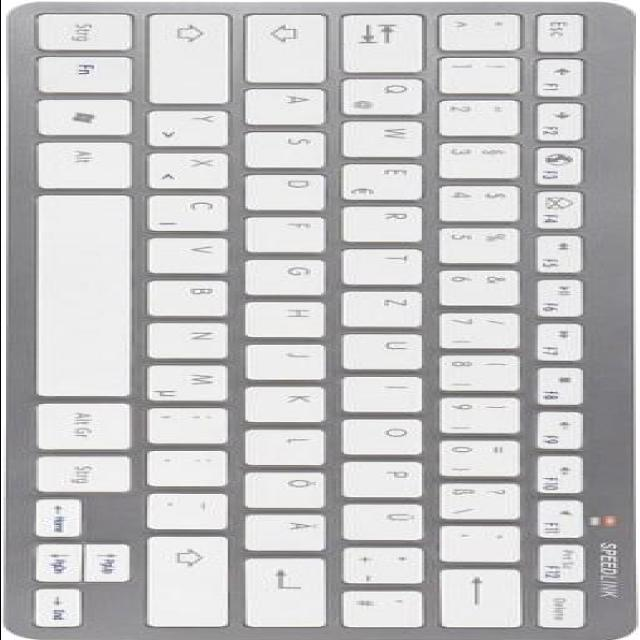0: (444, 437, 530, 475)
1: (444, 53, 530, 91)
2: (444, 96, 530, 134)
3: (444, 138, 530, 176)
4: (444, 182, 530, 220)
5: (444, 223, 530, 261)
6: (444, 266, 530, 304)
7: (444, 309, 530, 347)
8: (444, 351, 530, 389)
9: (444, 394, 530, 432)
a: (250, 85, 336, 123)
accent: (446, 522, 532, 560)
ae: (250, 511, 336, 549)
alt-left: (40, 137, 141, 187)
altgr-right: (38, 398, 139, 448)
b: (154, 275, 237, 313)
c: (151, 191, 237, 229)
caret: (444, 9, 532, 47)
comma: (151, 403, 237, 441)
d: (250, 170, 336, 208)
del: (444, 565, 532, 626)
e: (345, 160, 431, 198)
enter: (250, 552, 336, 626)
f: (250, 212, 336, 250)
g: (250, 255, 336, 293)
h: (250, 297, 336, 335)
hash: (346, 587, 434, 626)
i: (348, 372, 431, 410)
j: (250, 339, 336, 377)
k: (250, 382, 336, 420)
keyboard: (10, 2, 640, 640)
l: (250, 425, 336, 463)
m: (151, 360, 237, 398)
minus: (151, 489, 237, 527)
n: (154, 318, 237, 356)
o: (348, 415, 431, 453)
oe: (250, 468, 336, 506)
p: (348, 457, 434, 495)
plus: (348, 542, 434, 582)
point: (151, 446, 237, 484)
q: (346, 73, 434, 113)
r: (348, 202, 431, 240)
s: (250, 128, 336, 166)
shift-left: (152, 10, 240, 104)
shift-lock: (250, 9, 338, 81)
shift-right: (149, 531, 237, 627)
space: (38, 191, 144, 394)
ss: (444, 478, 530, 518)
strg-left: (40, 9, 141, 50)
strg-right: (38, 452, 139, 491)
t: (348, 245, 431, 283)
tab: (346, 9, 434, 70)
u: (346, 329, 434, 367)
ue: (348, 500, 434, 538)
v: (154, 234, 237, 272)
w: (348, 117, 434, 155)
x: (151, 149, 237, 187)
y: (151, 108, 237, 146)
z: (348, 287, 431, 325)
